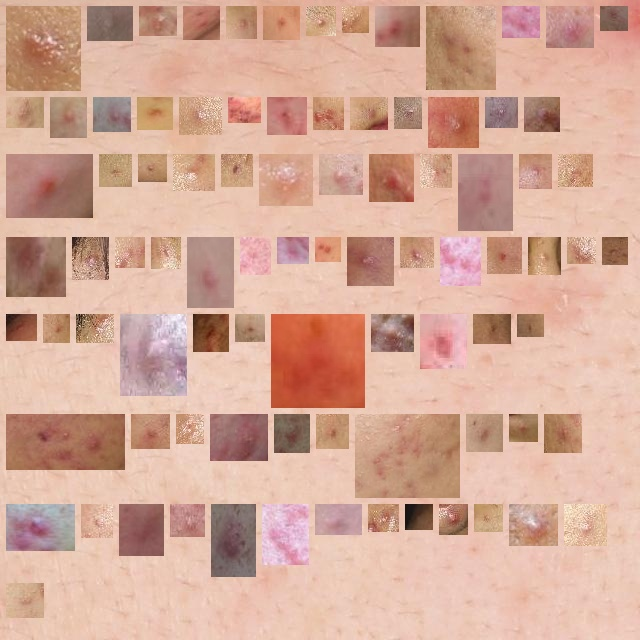papule: (279, 322, 357, 400), (363, 422, 452, 490), (14, 422, 117, 462), (14, 14, 73, 83), (434, 14, 488, 82), (14, 162, 85, 210), (128, 322, 179, 388), (466, 162, 505, 223), (14, 245, 58, 289), (195, 245, 226, 300), (219, 512, 248, 569), (14, 512, 67, 543), (270, 512, 301, 557), (267, 162, 305, 198), (218, 422, 260, 453), (436, 105, 471, 140), (428, 322, 459, 361), (127, 512, 156, 548), (355, 245, 386, 278), (377, 162, 406, 194), (517, 512, 550, 538), (554, 14, 586, 40), (448, 245, 473, 278), (383, 14, 412, 39), (572, 512, 599, 538), (327, 162, 355, 187), (323, 512, 354, 534), (187, 105, 214, 127), (379, 322, 406, 344), (95, 14, 125, 33), (80, 245, 101, 272), (181, 162, 207, 183), (275, 105, 299, 127), (58, 105, 79, 130), (552, 422, 574, 445), (474, 422, 495, 444), (282, 422, 302, 445), (201, 322, 221, 344), (139, 422, 162, 441), (101, 105, 123, 124), (14, 591, 36, 610), (495, 245, 514, 266), (532, 105, 552, 124), (191, 14, 212, 32), (271, 14, 292, 32), (358, 105, 380, 122), (536, 245, 553, 267), (510, 14, 532, 30), (145, 105, 165, 122), (14, 105, 36, 120), (248, 245, 263, 267), (527, 162, 544, 181), (566, 162, 585, 179), (324, 422, 341, 441), (178, 512, 197, 529), (147, 14, 169, 28), (481, 322, 503, 336), (107, 162, 124, 179), (428, 162, 444, 180), (89, 512, 105, 530), (84, 322, 106, 335), (229, 162, 245, 179), (408, 245, 426, 260), (234, 14, 249, 31), (321, 105, 336, 122), (493, 105, 510, 120), (159, 245, 173, 261), (123, 245, 137, 260), (314, 14, 328, 28), (447, 512, 460, 527), (402, 105, 414, 121), (376, 512, 391, 524), (285, 245, 301, 256), (236, 105, 253, 115), (243, 322, 257, 334), (184, 422, 196, 436), (14, 322, 29, 333), (146, 162, 159, 174), (517, 422, 530, 434), (482, 512, 495, 524), (575, 245, 588, 256), (51, 322, 62, 335), (350, 14, 361, 25), (610, 245, 620, 257), (413, 512, 425, 522), (608, 14, 620, 23), (323, 245, 333, 254), (525, 322, 536, 329)
